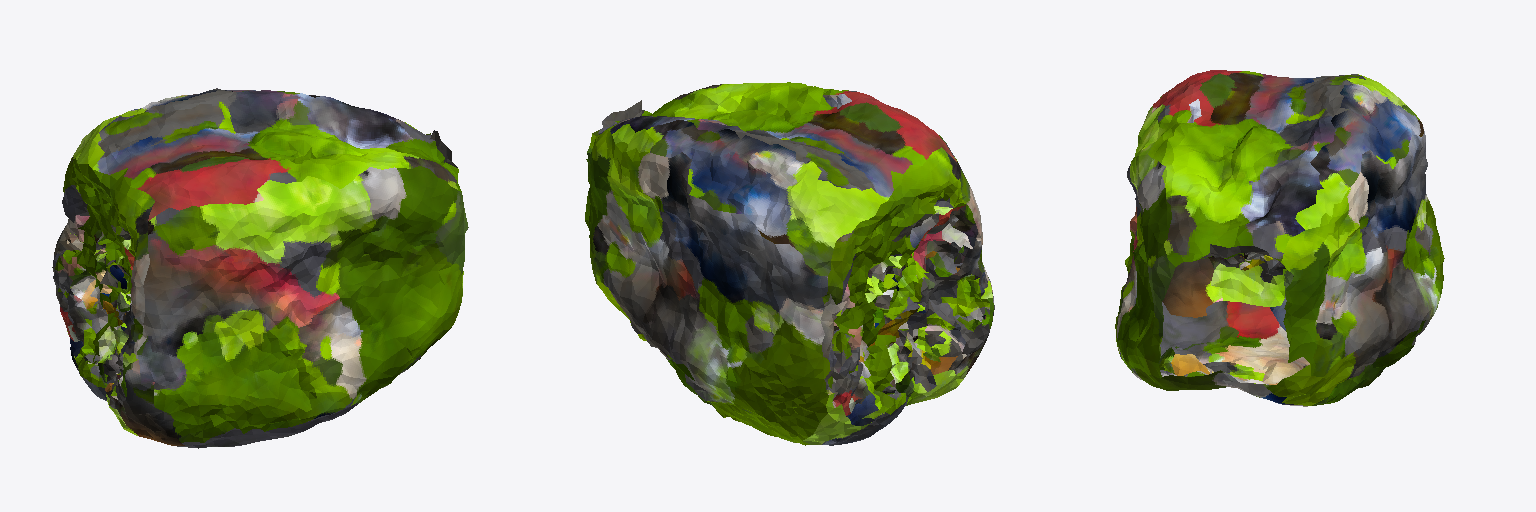
The picture shows the model from 3 angles: view 1: azimuth 30°, elevation 25°; view 2: azimuth 150°, elevation 25°; view 3: azimuth 270°, elevation 25°; orthographic projection.
Parts seen in each view (by area): view 1: mesh; view 2: mesh; view 3: mesh.
Part boxes in pixels (x1,y1,x2,y2): mesh: (52, 88, 468, 448); mesh: (585, 82, 994, 445); mesh: (1115, 70, 1444, 406).
Bounding box in the file's own units: 0.098 × 0.076 × 0.0783.
1 materials, 1 textured.